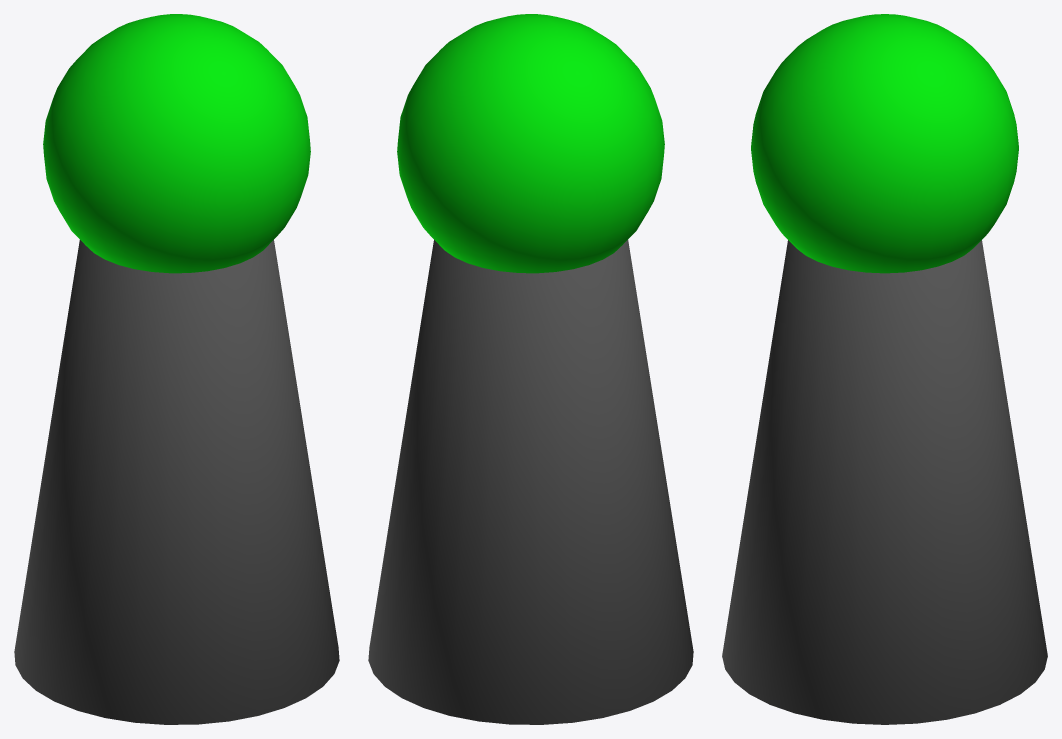
Rendered from Tower.fbx.
3 renders of one model, left to right at view 1: azimuth 30°, elevation 25°; view 2: azimuth 150°, elevation 25°; view 3: azimuth 270°, elevation 25°, orthographic.
Parts seen in each view (by area): view 1: Cylinder, Ball; view 2: Cylinder, Ball; view 3: Cylinder, Ball.
Part boxes in pixels (x1,y1,x2,y2): Cylinder: (14,240,339,724); Ball: (43,14,310,273); Cylinder: (368,240,693,724); Ball: (397,14,664,273); Cylinder: (722,240,1047,724); Ball: (751,14,1018,273).
Size of the model in its own units: 292 by 622 by 292.
